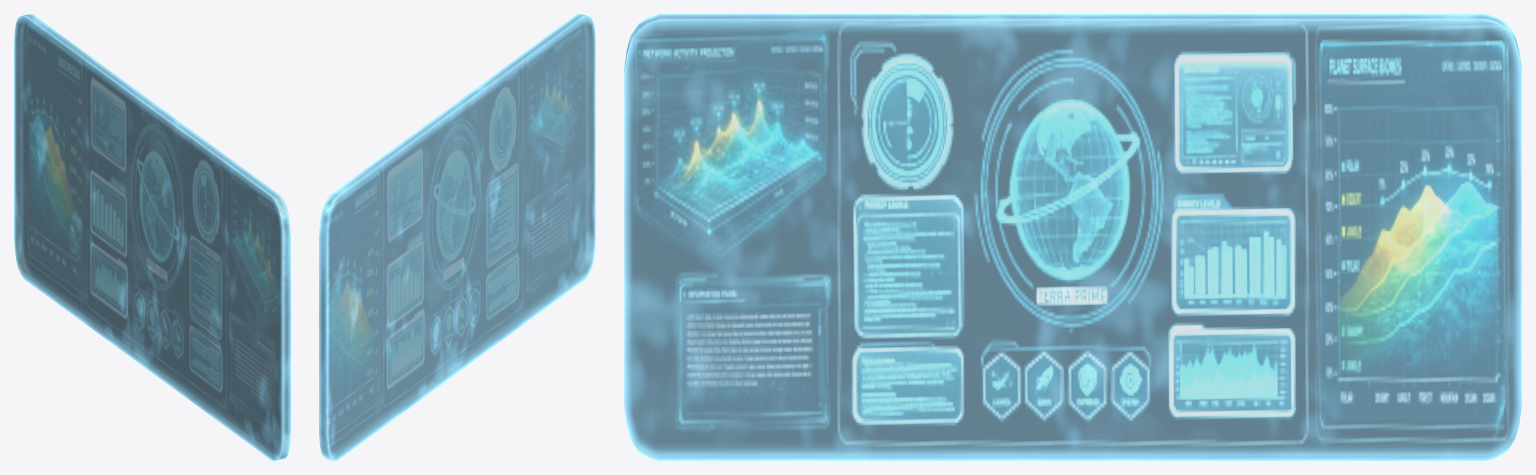
Rendered from board.glb.
3 renders of one model, left to right at view 1: azimuth 30°, elevation 25°; view 2: azimuth 150°, elevation 25°; view 3: azimuth 270°, elevation 25°, orthographic. The views are drawn at different scales.
Visible parts, largest first — view 1: Object_2; view 2: Object_2; view 3: Object_2.
Boxes of the visible parts, <box> form: Object_2: <box>14,14,290,460</box>; Object_2: <box>319,14,595,460</box>; Object_2: <box>624,14,1521,460</box>.
Size of the model in its own units: 0.036 by 1.09 by 2.02.
1 material, 1 textured.
